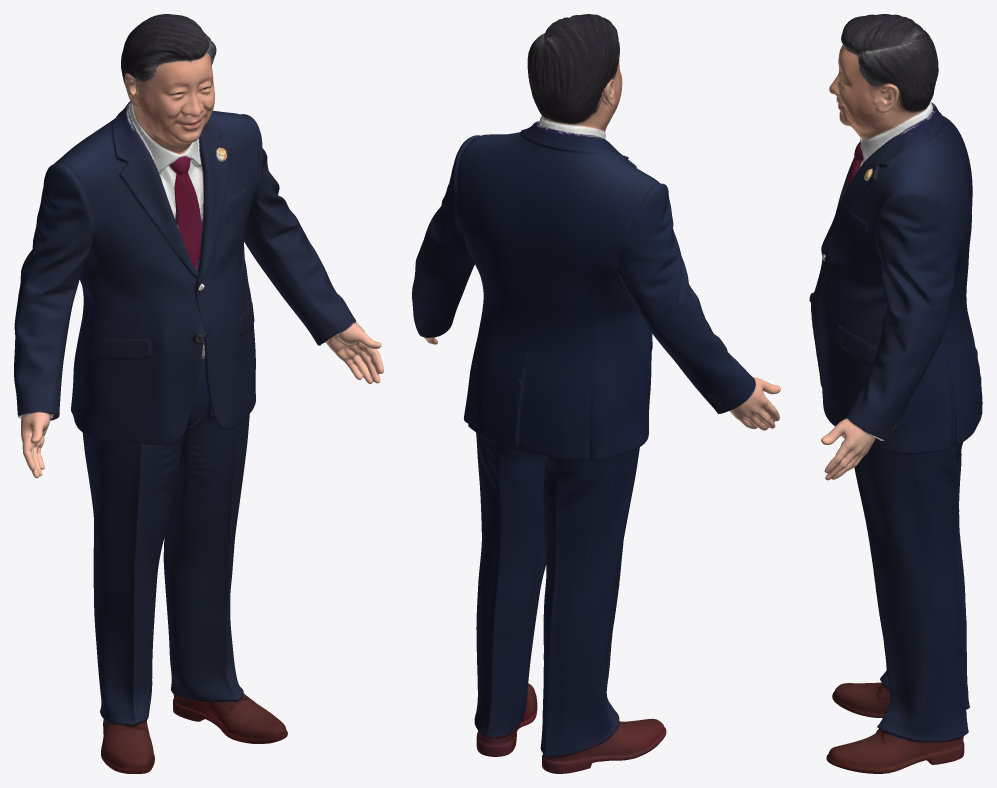
Rendered from china-presenter.glb.
3 views of the same model, side by side, from view 1: azimuth 30°, elevation 25°; view 2: azimuth 150°, elevation 25°; view 3: azimuth 270°, elevation 25° (orthographic). The views are drawn at different scales.
Bounding box in the file's own units: 0.9823 × 1.9 × 0.4196.
1 material, 1 textured.
